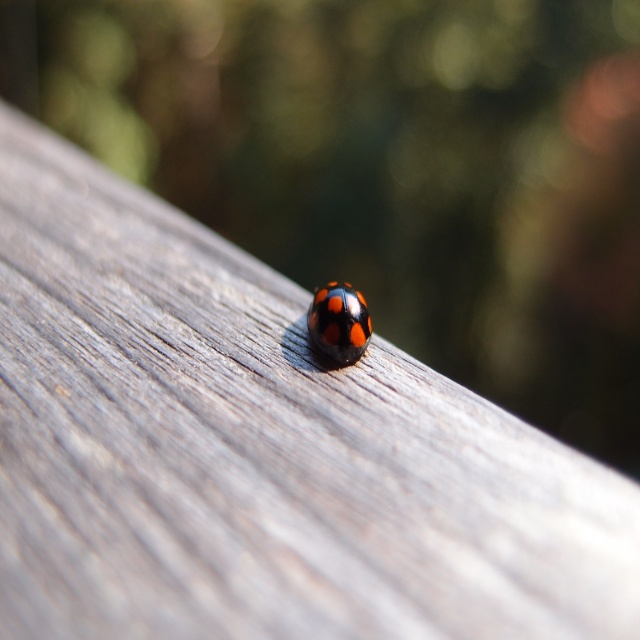Ladybug: (305, 281, 371, 365)
